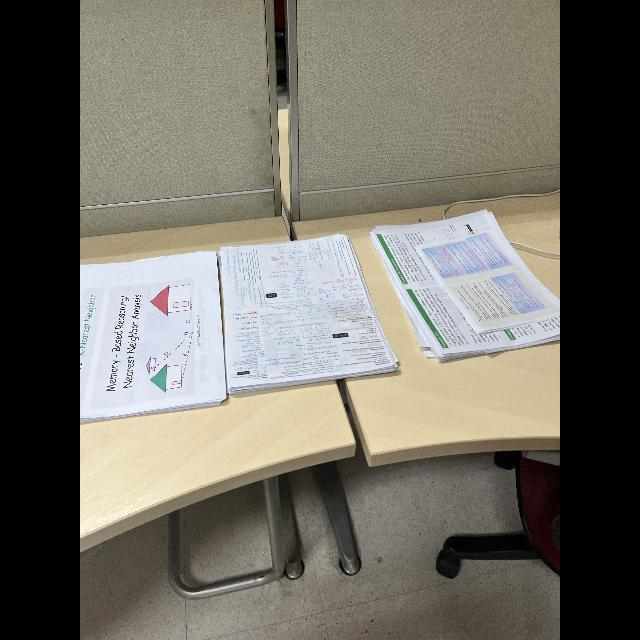reuseable_paper: (80, 228, 406, 420), (370, 206, 560, 362)
